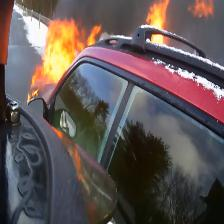fire: (16, 9, 123, 103), (132, 3, 196, 44)
smoke: (63, 0, 151, 35)
